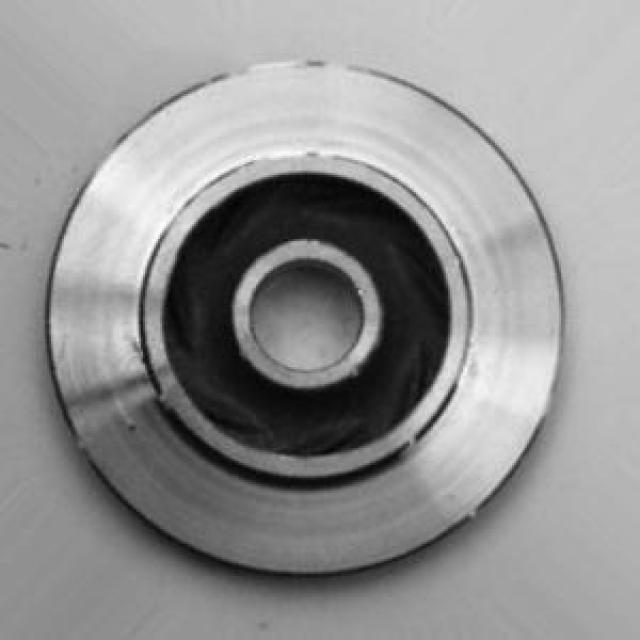Defect: (148, 381, 182, 422), (127, 419, 142, 437)
